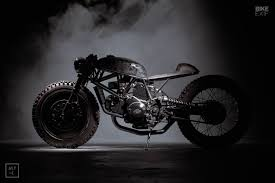motorcycle: (30, 56, 248, 152)
